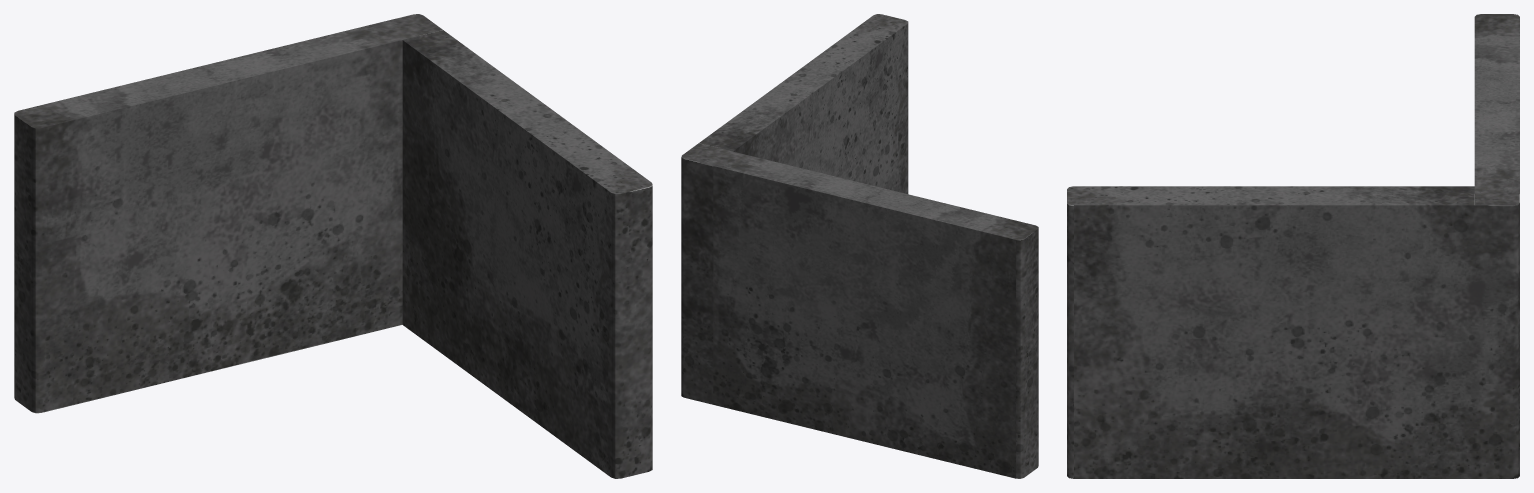
Rendered from MR_Corner_L_New.fbx.
The picture shows the model from 3 angles, left to right: view 1: azimuth 30°, elevation 25°; view 2: azimuth 150°, elevation 25°; view 3: azimuth 270°, elevation 25°; orthographic projection. The views are drawn at different scales.
Parts seen in each view (by area): view 1: pasted__pasted__M_Wall_Single; view 2: pasted__pasted__M_Wall_Single; view 3: pasted__pasted__M_Wall_Single.
Part boxes in pixels (bbox=[...]): pasted__pasted__M_Wall_Single: bbox=[14, 14, 652, 478]; pasted__pasted__M_Wall_Single: bbox=[681, 14, 1038, 478]; pasted__pasted__M_Wall_Single: bbox=[1067, 14, 1519, 478].
Size of the model in its own units: 150 by 100 by 150.
